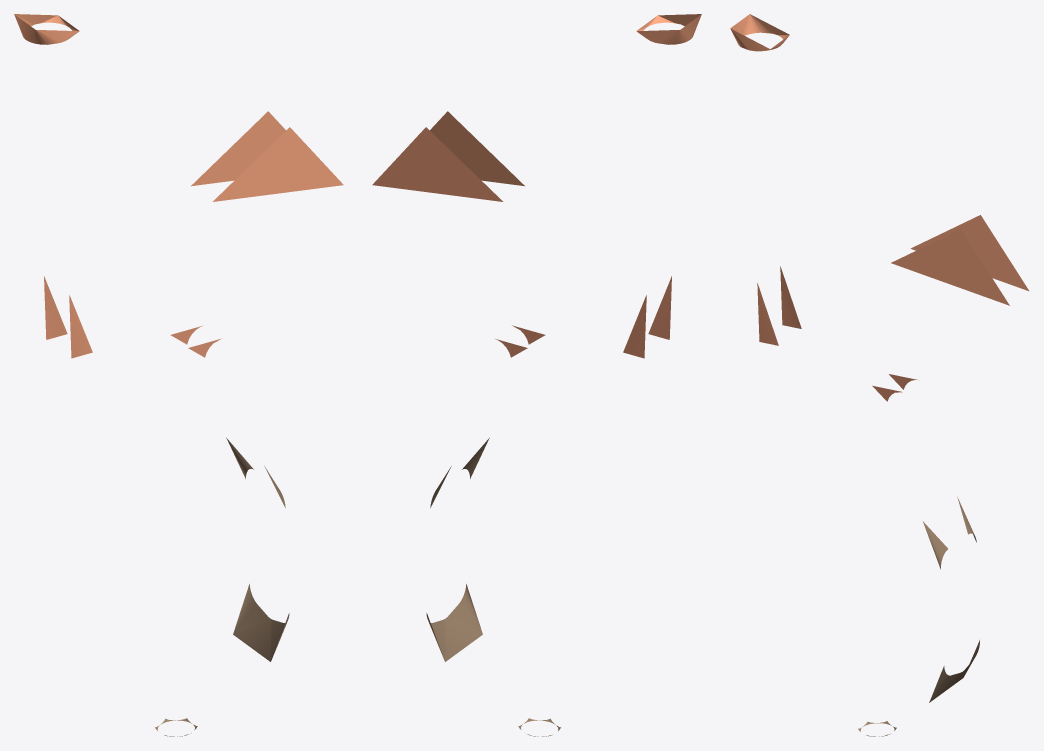
Rendered from ped_welder.dae.
The picture shows the model from 3 angles, left to right: view 1: azimuth 30°, elevation 25°; view 2: azimuth 150°, elevation 25°; view 3: azimuth 330°, elevation 25°; orthographic projection. The views are drawn at different scales.
Visible parts, largest first — view 1: ped_welder_ARM10, ped_welder_EQUALIZER6, ped_welder_HOLDER18; view 2: ped_welder_ARM10, ped_welder_EQUALIZER6, ped_welder_HOLDER18; view 3: ped_welder_ARM10, ped_welder_HOLDER18, ped_welder_EQUALIZER6.
Boxes of the visible parts, left/top/right/bottom form: ped_welder_ARM10: left=14, top=14, right=343, bottom=201; ped_welder_EQUALIZER6: left=155, top=437, right=289, bottom=736; ped_welder_HOLDER18: left=44, top=276, right=221, bottom=358; ped_welder_ARM10: left=372, top=14, right=701, bottom=201; ped_welder_EQUALIZER6: left=426, top=437, right=560, bottom=736; ped_welder_HOLDER18: left=495, top=276, right=671, bottom=358; ped_welder_ARM10: left=730, top=14, right=1028, bottom=305; ped_welder_HOLDER18: left=757, top=266, right=917, bottom=401; ped_welder_EQUALIZER6: left=858, top=496, right=979, bottom=736.
Size of the model in its own units: 313 by 69.85 by 723.
